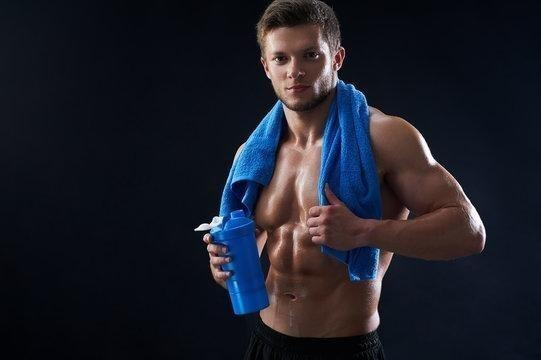gym bottle: (205, 200, 270, 316)
